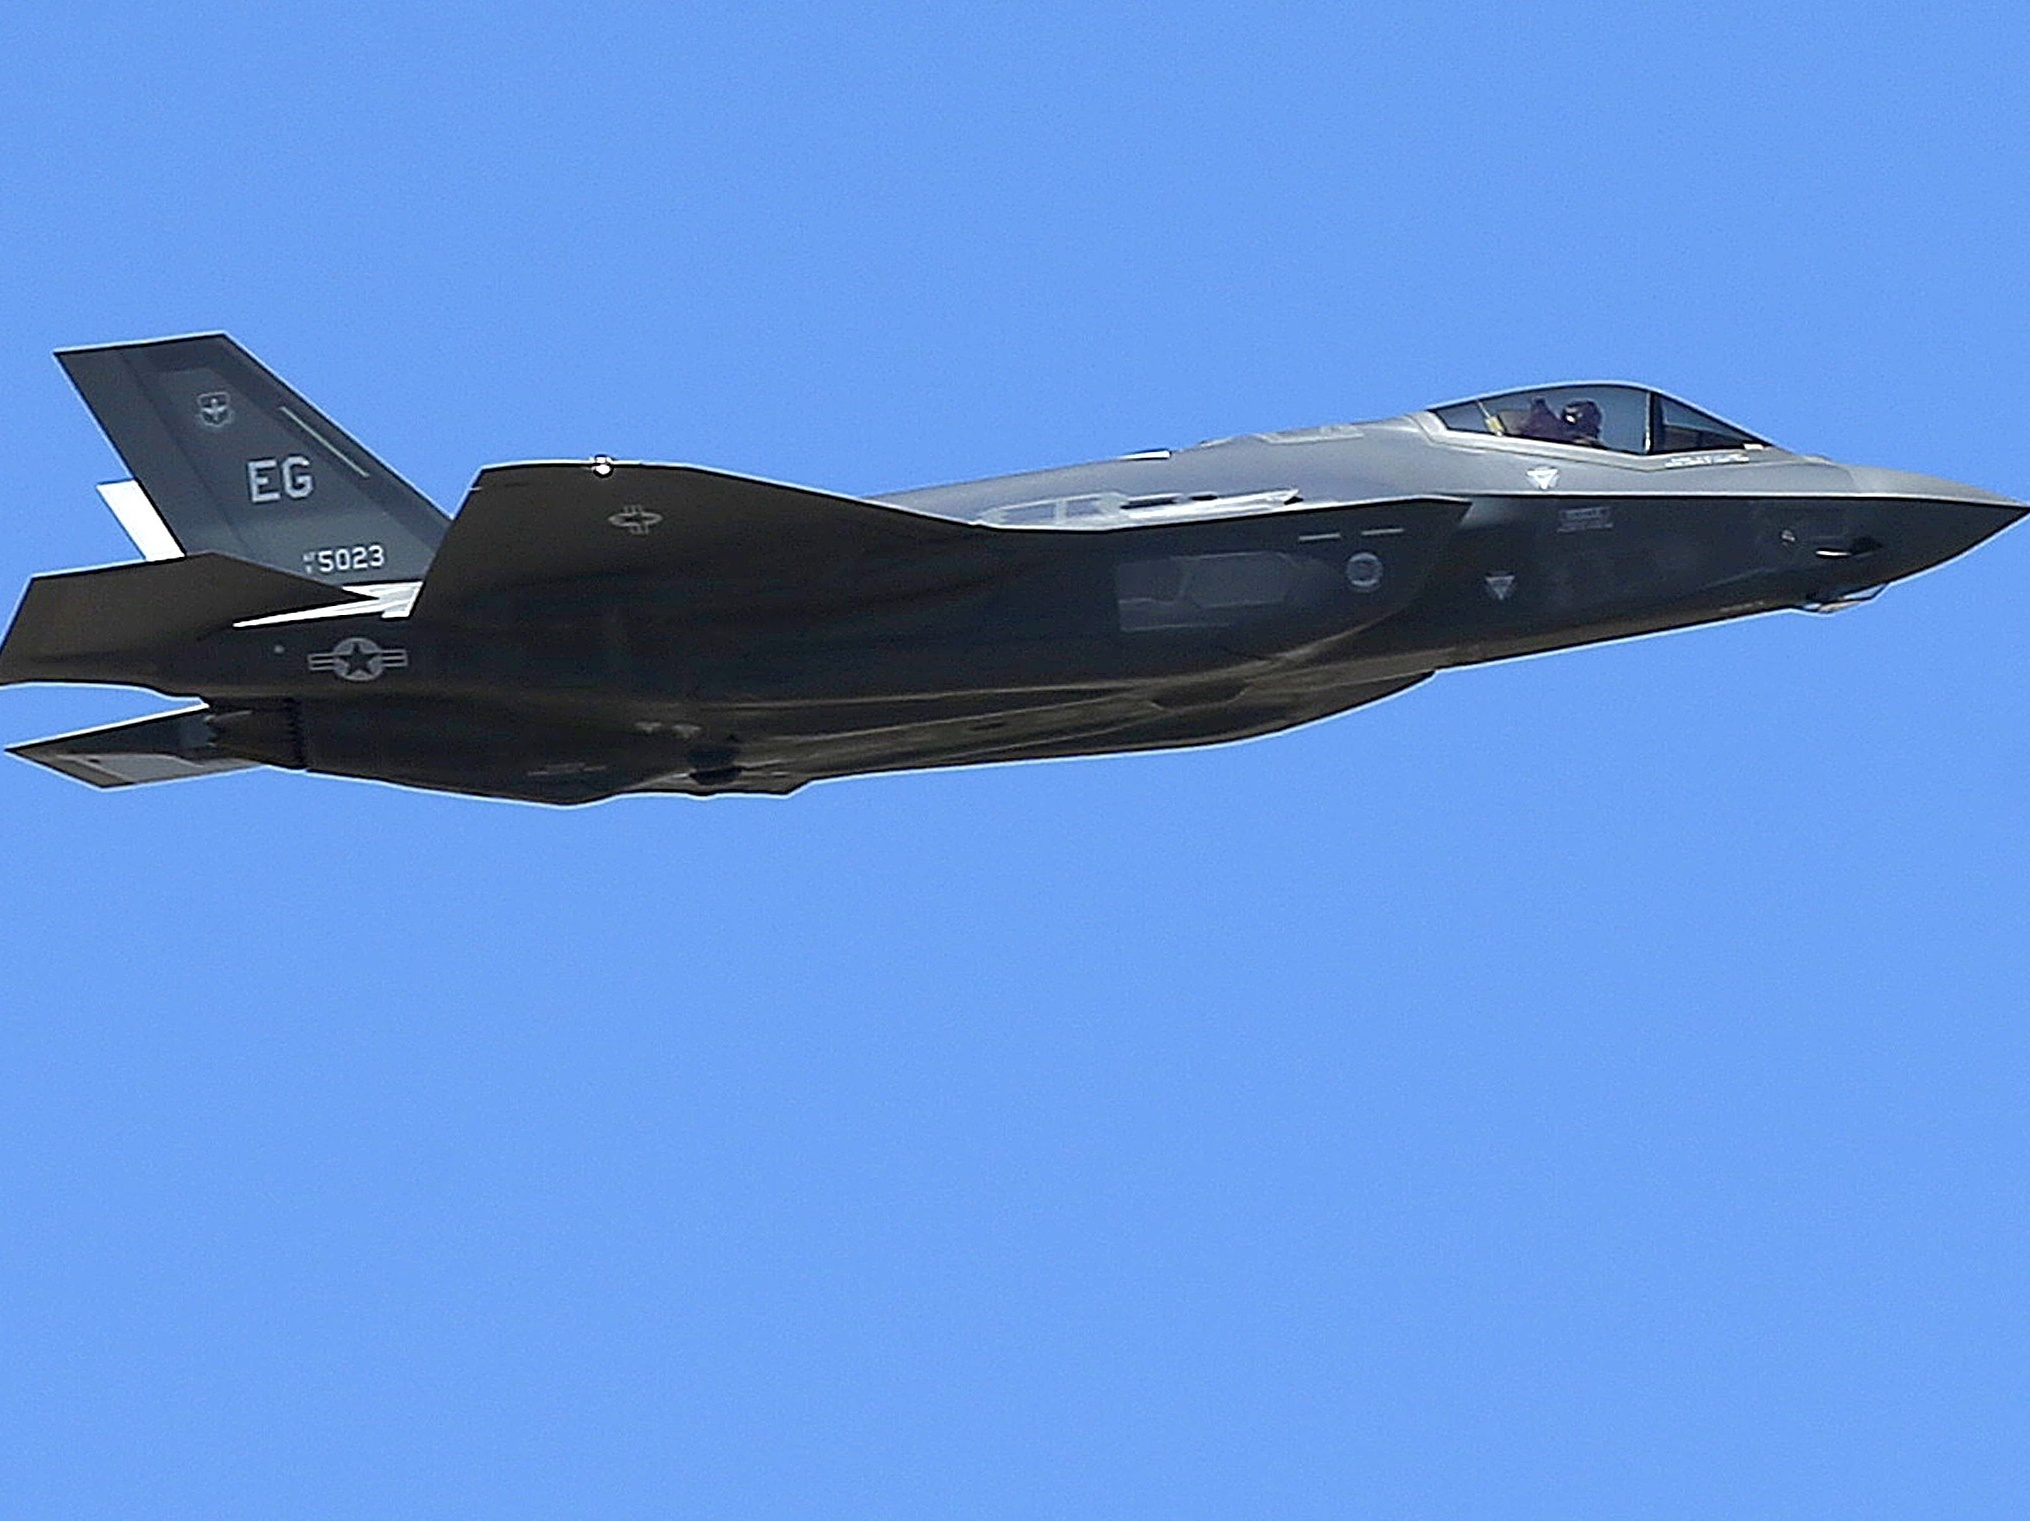F-35 Lightning: (13, 209, 2028, 828)
